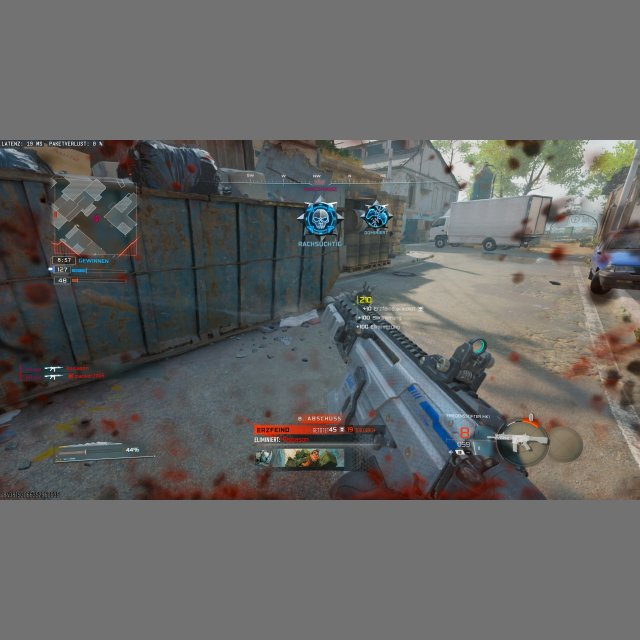player: (363, 201, 389, 232)
